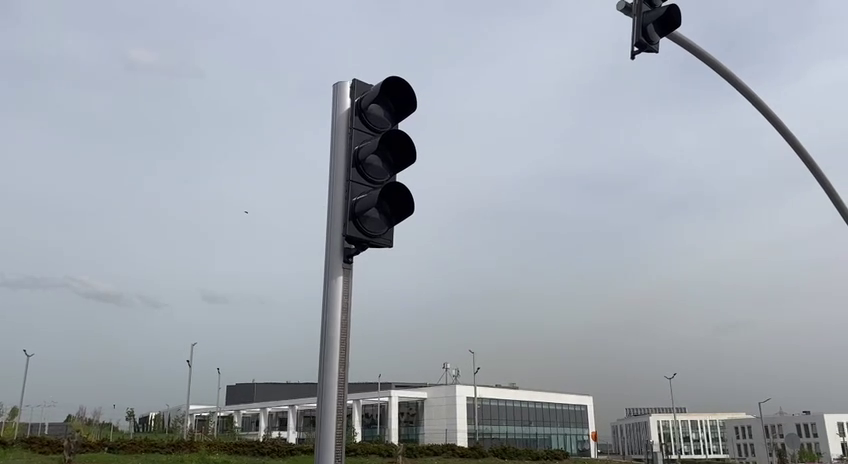trafficLight: (331, 73, 421, 257), (623, 1, 684, 60)
